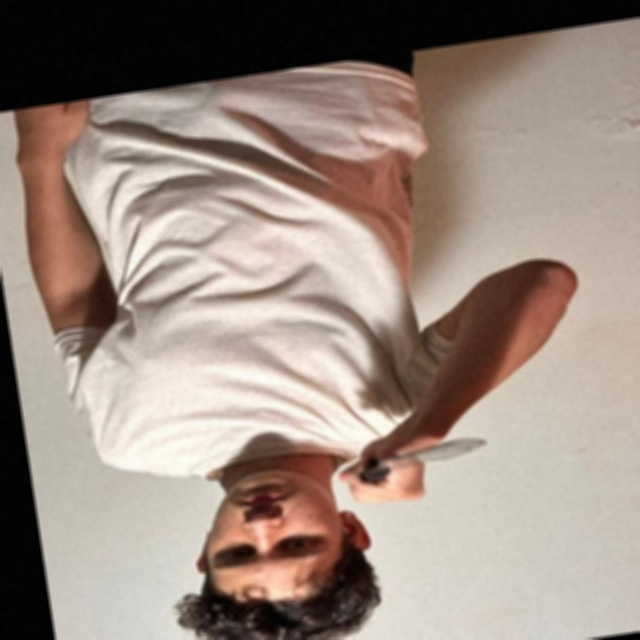Sharp-Object: (373, 436, 487, 472)
